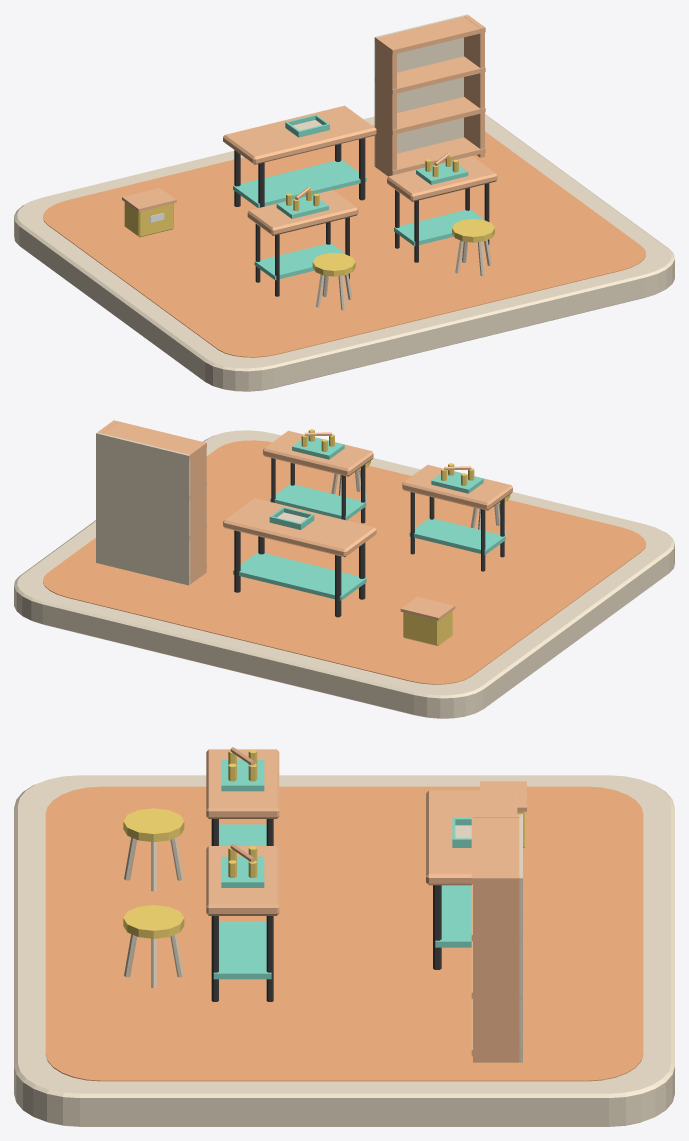
Rendered from room.fbx.
The picture shows the model from 3 angles, top to bottom: view 1: azimuth 30°, elevation 25°; view 2: azimuth 150°, elevation 25°; view 3: azimuth 270°, elevation 25°; orthographic projection. The views are drawn at different scales.
Visible parts, largest first — view 1: COM-02 Floor Surface, COM-01 Rounded Base Direct, Back, Worktop.002, Lower shelf.002, Side, Worktop, Worktop.001, Side.001, Shelf.003, Shelf.002, Shelf.001 (+9 smaller); view 2: COM-02 Floor Surface, COM-01 Rounded Base Direct, Back, Worktop.002, Lower shelf.002, Worktop, Worktop.001, Side, Lower shelf, Lower shelf.001, Shelf.003, Box (+3 smaller); view 3: COM-02 Floor Surface, COM-01 Rounded Base Direct, Side.001, Worktop.002, Worktop, Worktop.001, Shelf.003, Lower shelf.001, Lower shelf.002, Seat.001, Seat, Assembly board (+7 smaller).
Boxes of the visible parts, <box> form: COM-02 Floor Surface: <box>43,125,645,357</box>; COM-01 Rounded Base Direct: <box>14,114,674,391</box>; Back: <box>374,14,468,167</box>; Worktop.002: <box>223,105,376,164</box>; Lower shelf.002: <box>233,159,366,207</box>; Side: <box>376,37,396,176</box>; Worktop: <box>247,190,358,235</box>; Worktop.001: <box>387,156,497,201</box>; Side.001: <box>464,15,484,157</box>; Shelf.003: <box>374,16,485,54</box>; Shelf.002: <box>374,56,485,94</box>; Shelf.001: <box>376,97,485,134</box>; COM-02 Floor Surface: <box>43,440,645,684</box>; COM-01 Rounded Base Direct: <box>14,430,674,718</box>; Back: <box>96,432,190,585</box>; Worktop.002: <box>223,498,376,557</box>; Lower shelf.002: <box>233,552,366,600</box>; Worktop: <box>402,464,512,510</box>; Worktop.001: <box>263,430,373,476</box>; Side: <box>186,442,206,583</box>; Lower shelf: <box>409,518,505,554</box>; Lower shelf.001: <box>270,484,366,520</box>; Shelf.003: <box>102,420,206,459</box>; Box: <box>403,611,452,645</box>; COM-02 Floor Surface: <box>45,786,643,1081</box>; COM-01 Rounded Base Direct: <box>14,775,674,1126</box>; Side.001: <box>473,875,521,1062</box>; Worktop.002: <box>426,790,517,885</box>; Worktop: <box>206,749,279,818</box>; Worktop.001: <box>206,846,279,915</box>; Shelf.003: <box>471,814,521,884</box>; Lower shelf.001: <box>213,921,271,979</box>; Lower shelf.002: <box>435,885,471,947</box>; Seat.001: <box>123,905,184,938</box>; Seat: <box>123,808,184,841</box>; Assembly board: <box>221,760,264,791</box>.
Bounding box in the file's own units: 600 × 190 × 520.
